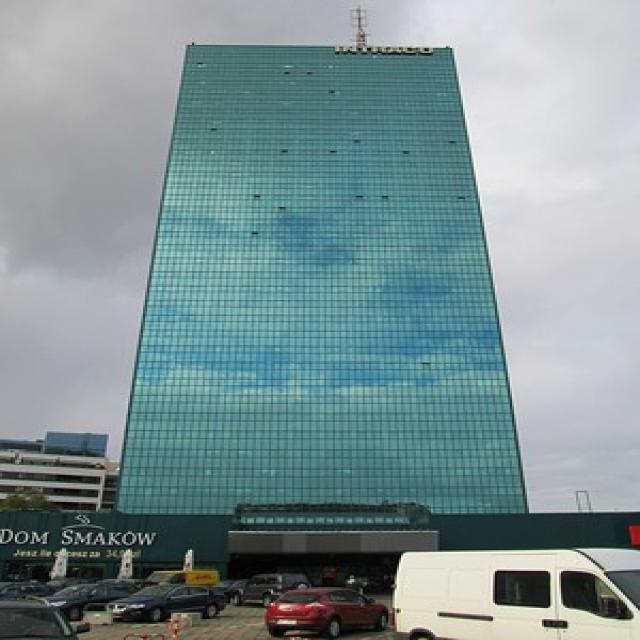building: (114, 36, 532, 517)
